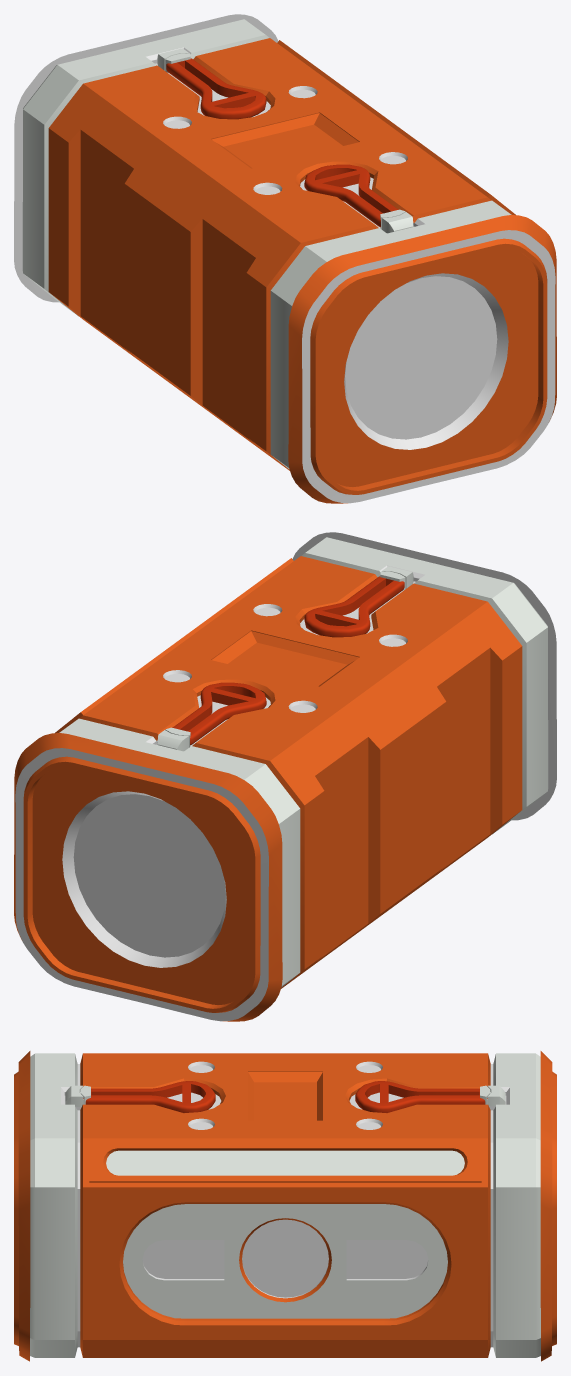
File: cargo_variation.fbx
3 renders of one model, top to bottom at view 1: azimuth 30°, elevation 25°; view 2: azimuth 150°, elevation 25°; view 3: azimuth 270°, elevation 25°, orthographic. The views are drawn at different scales.
Parts seen in each view (by area): view 1: Cube, Cube.001, Cube.002; view 2: Cube, Cube.001, Cube.002; view 3: Cube, Cube.001, Cube.002.
Boxes of the visible parts, x1,y1,x2,y2 form: Cube: (14, 14, 556, 503); Cube.001: (166, 58, 398, 227); Cube.002: (157, 48, 413, 233); Cube: (14, 532, 556, 1021); Cube.001: (172, 576, 404, 745); Cube.002: (157, 566, 413, 751); Cube: (14, 1051, 556, 1361); Cube.001: (83, 1081, 487, 1112); Cube.002: (65, 1085, 505, 1106).
Bounding box in the file's own units: 238 × 210 × 448.
